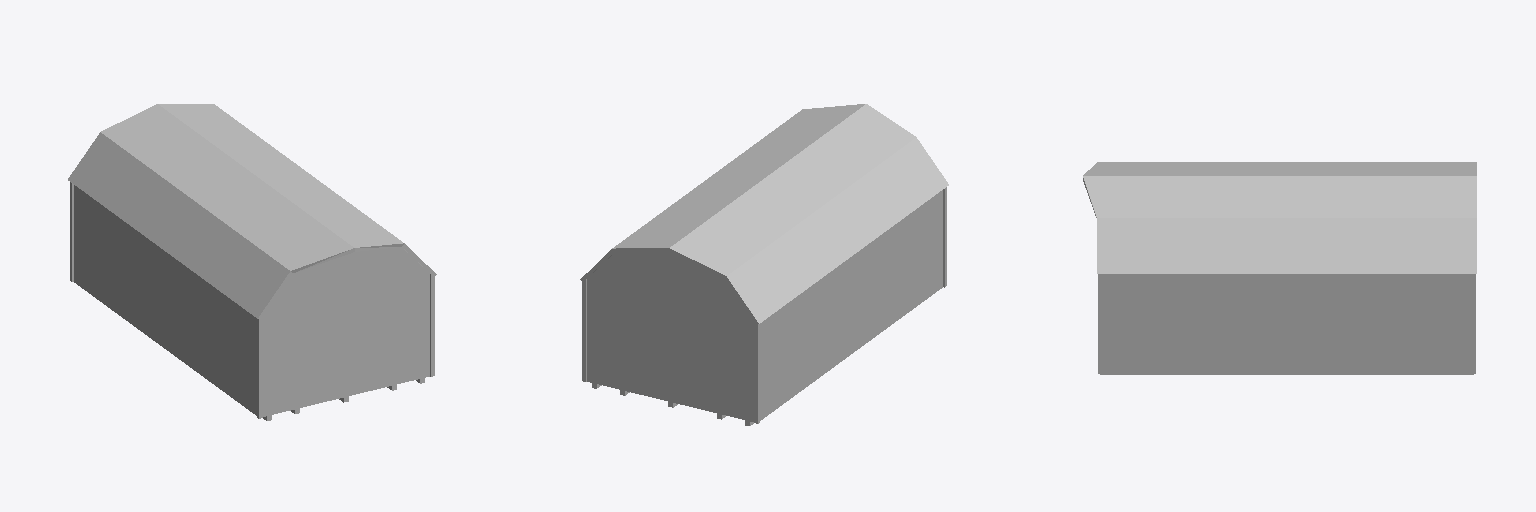
Rendered from High Wall Barns_12x24.obj.
3 renders of one model, left to right at view 1: azimuth 30°, elevation 25°; view 2: azimuth 150°, elevation 25°; view 3: azimuth 270°, elevation 25°, orthographic.
Visible parts, largest first — view 1: High Wall Barns_12x24.obj; view 2: High Wall Barns_12x24.obj; view 3: High Wall Barns_12x24.obj.
Part boxes in pixels (x1,y1,x2,y2): High Wall Barns_12x24.obj: (68,104,436,420); High Wall Barns_12x24.obj: (580,104,948,425); High Wall Barns_12x24.obj: (1083,162,1476,374).
Bounding box in the file's own units: 3.72 × 3.17 × 7.06.